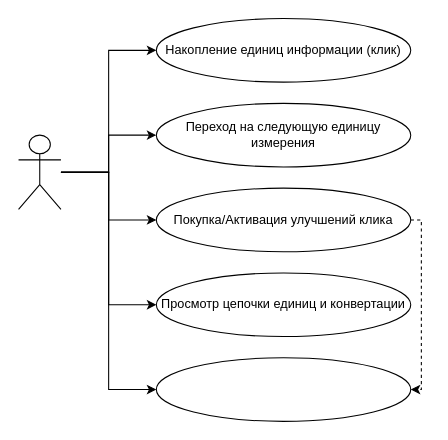
Some shapes in this 448 by 440 pixel diagram are drawn without their labels. The box of each missing label's shape, as (x1, y1, x2, y2) in pixels:
Игрок: (17, 134, 61, 209)
Просмотр описаний, фактов и изображений улучшений: (155, 357, 411, 421)
